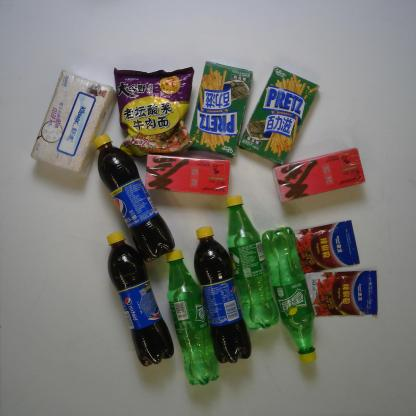Dessert: (236, 63, 322, 167), (186, 60, 255, 160)
Drink: (91, 132, 177, 264), (103, 229, 176, 369), (192, 224, 254, 364), (163, 246, 221, 388), (260, 224, 318, 365), (224, 192, 281, 333)
Instant Drink: (272, 146, 368, 204), (142, 152, 233, 197)
Instant Noodles: (111, 65, 197, 159)
Seasoner: (292, 218, 362, 276), (304, 268, 380, 317)
Tissue: (26, 65, 119, 181)
